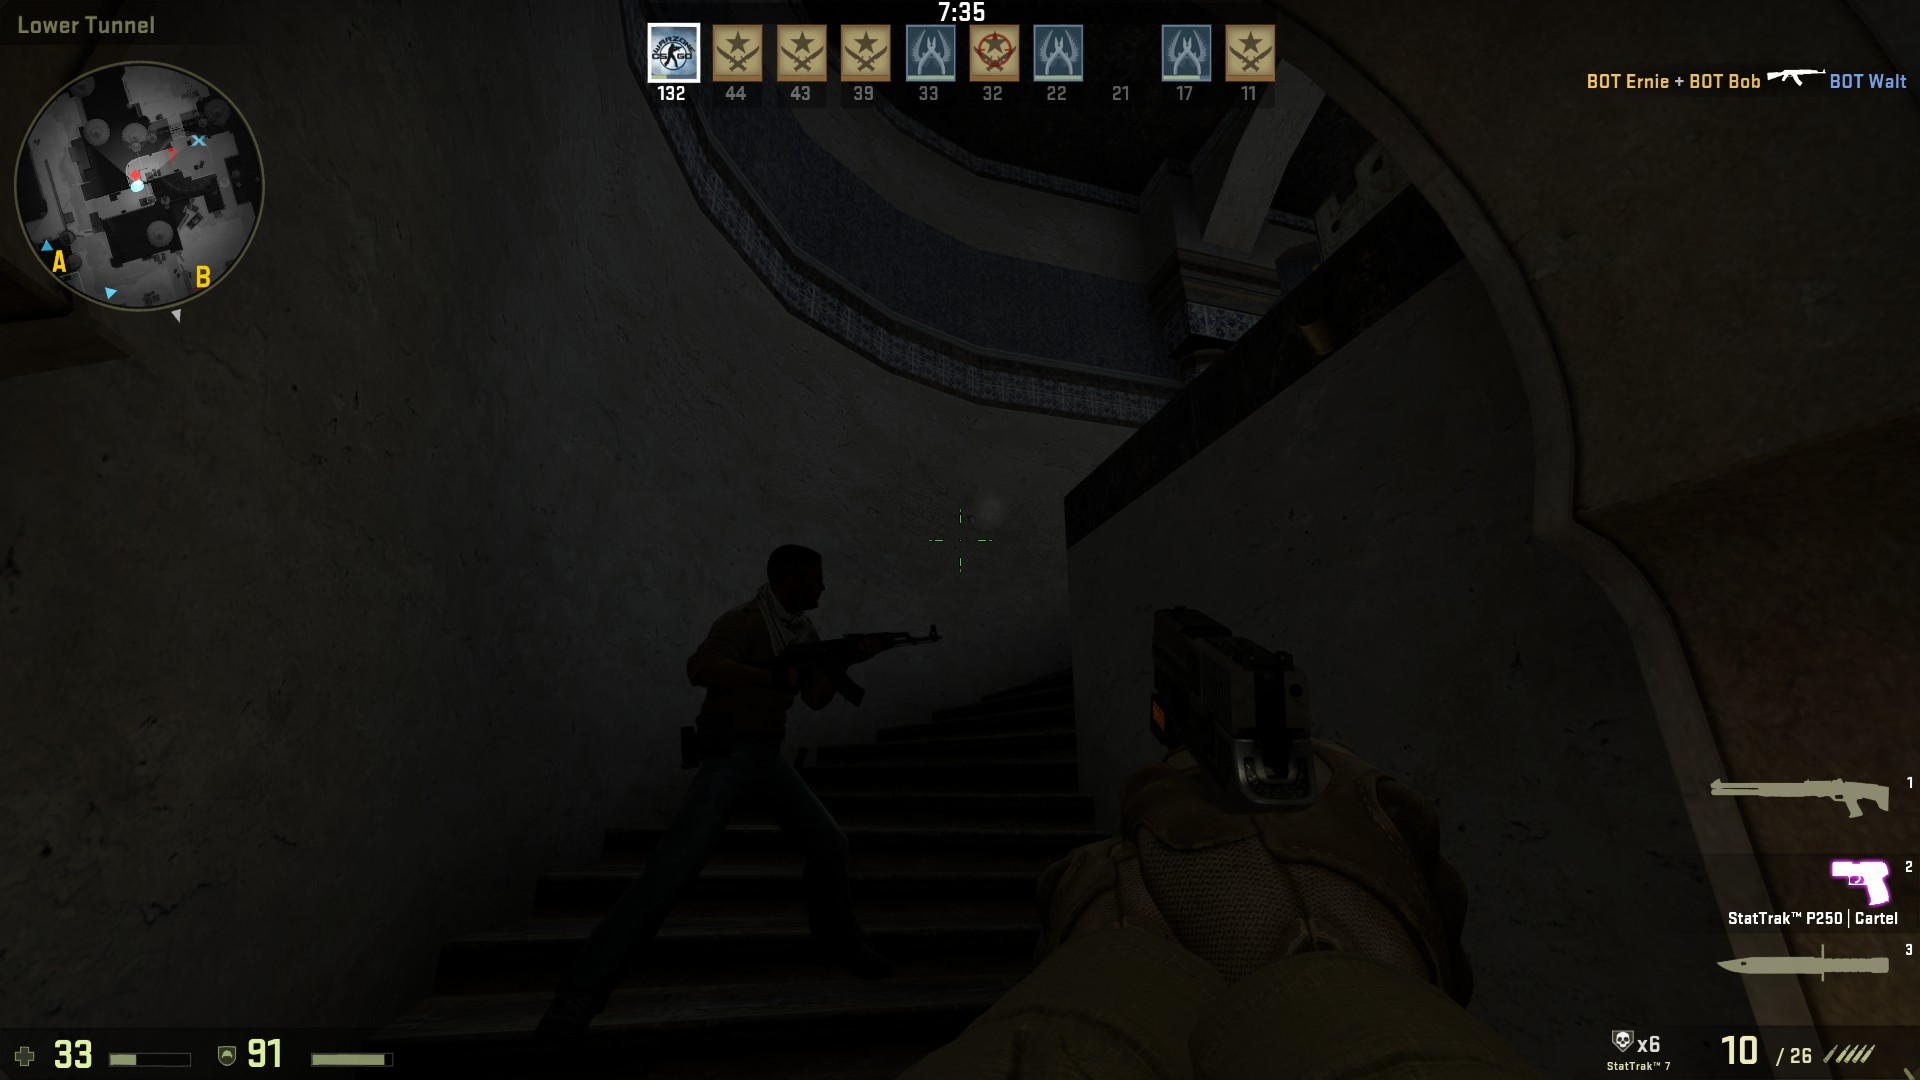t: (680, 541, 845, 994)
th: (749, 542, 829, 645)
